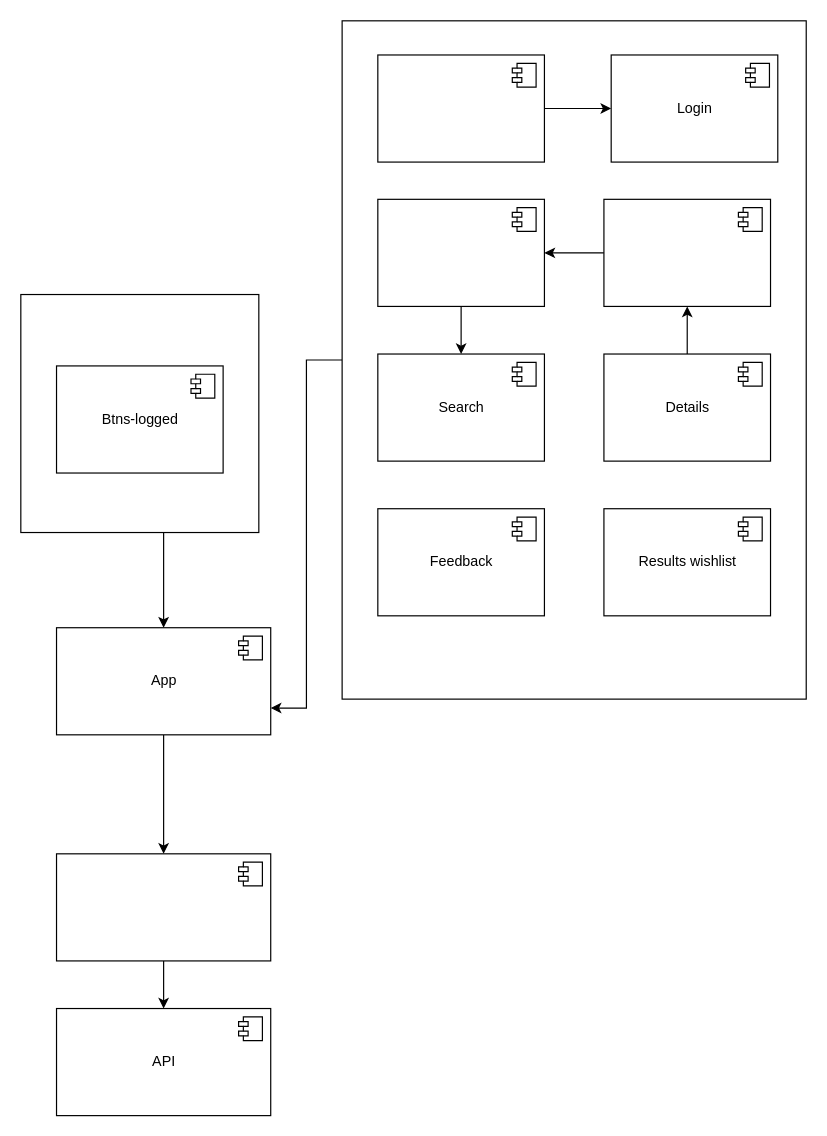
This 827x1136 diagram has some shape labels left out. Each missing label, with the centre of its shape:
Card: (687,252)
Logic: (163,907)
Register: (460,108)
Results: (460,252)
